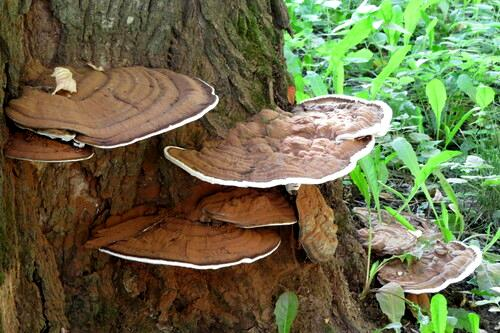Ganoderma - Fruit Body: (9, 64, 218, 160), (97, 193, 295, 275), (223, 93, 391, 189), (354, 204, 481, 290), (302, 195, 341, 264)
